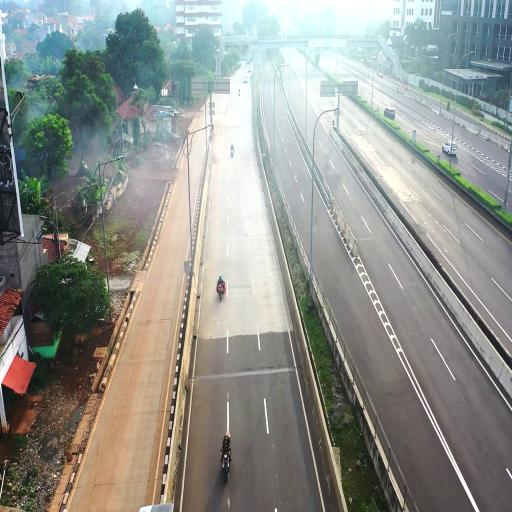vehicle: (216, 276, 227, 298), (442, 141, 456, 157)
